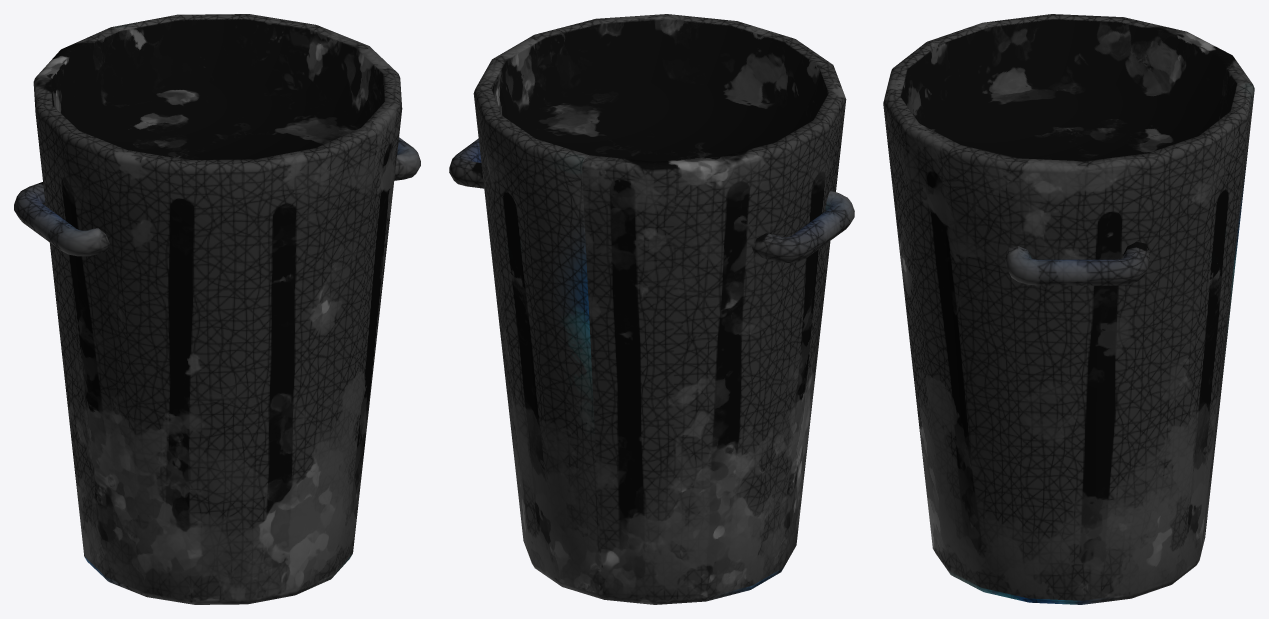
The model's file is Dealer_PopUp_trashbin.fbx.
3 renders of one model, left to right at view 1: azimuth 30°, elevation 25°; view 2: azimuth 150°, elevation 25°; view 3: azimuth 270°, elevation 25°, orthographic.
Parts seen in each view (by area): view 1: trashbin; view 2: trashbin; view 3: trashbin.
Part boxes in pixels (x1,y1,x2,y2): trashbin: [14, 14, 420, 604]; trashbin: [449, 14, 854, 604]; trashbin: [883, 14, 1254, 604].
Size of the model in its own units: 55.65 by 68.41 by 49.98.
1 material, 1 textured.
